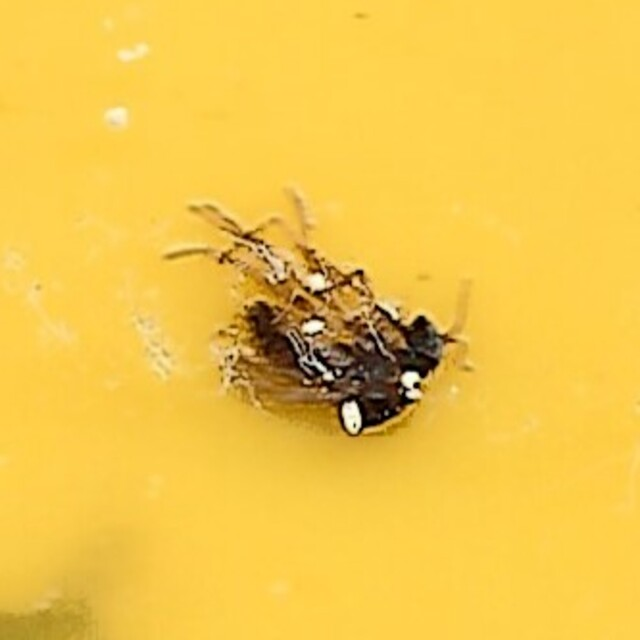Brachycera: (192, 208, 448, 432)
